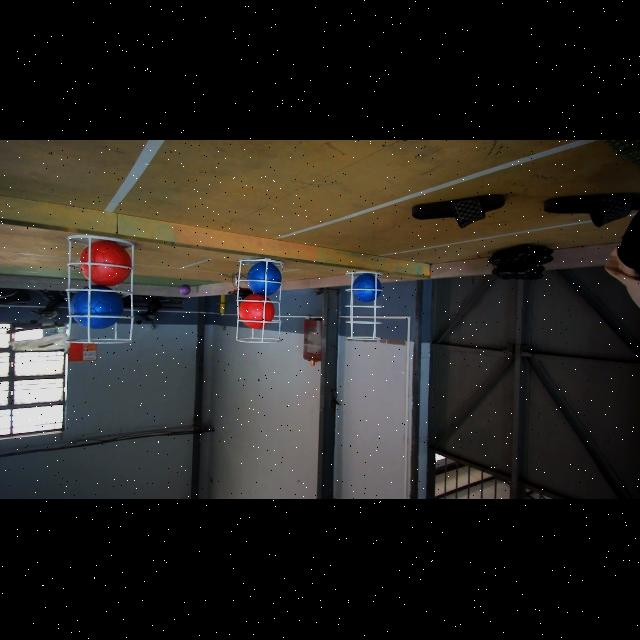B: (70, 285, 124, 331), (246, 262, 282, 296), (352, 272, 382, 302)
R: (81, 242, 131, 288), (238, 294, 276, 330)
